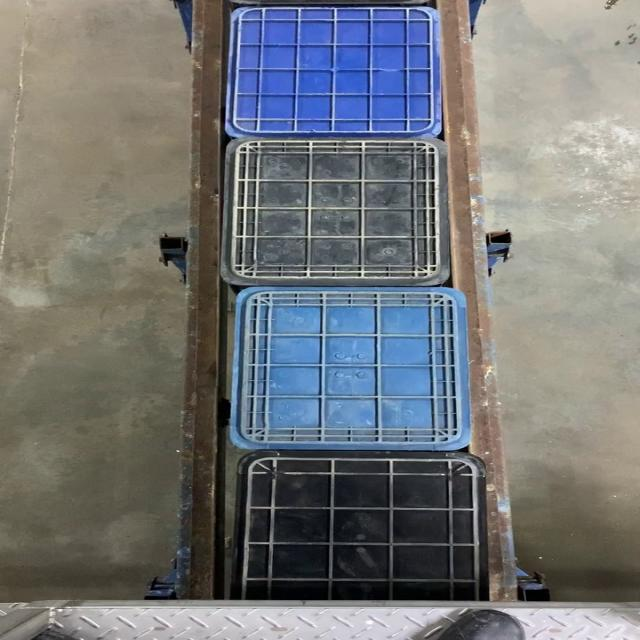Box: (228, 286, 472, 450), (224, 137, 453, 287), (224, 3, 445, 137)
